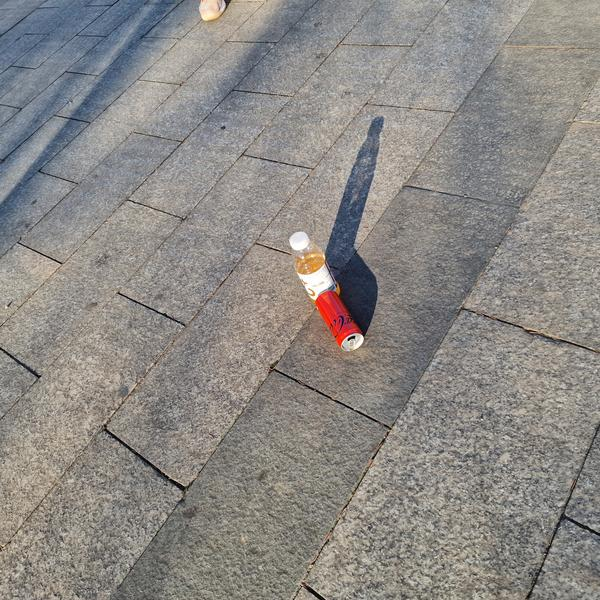can: (308, 285, 372, 359)
plastic_bottle: (280, 225, 343, 308)
